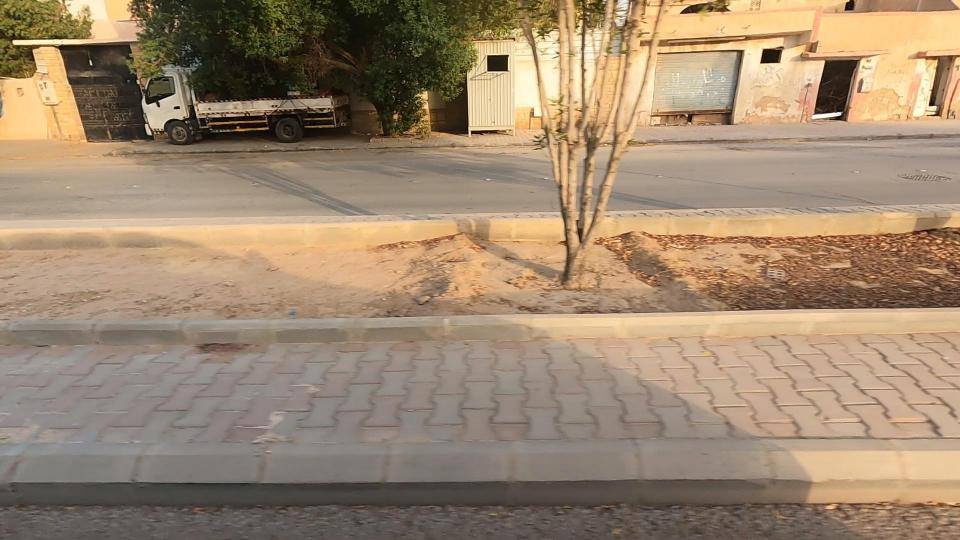CLUTTER_SIDEWALK: (0, 215, 598, 343), (515, 193, 960, 337)
